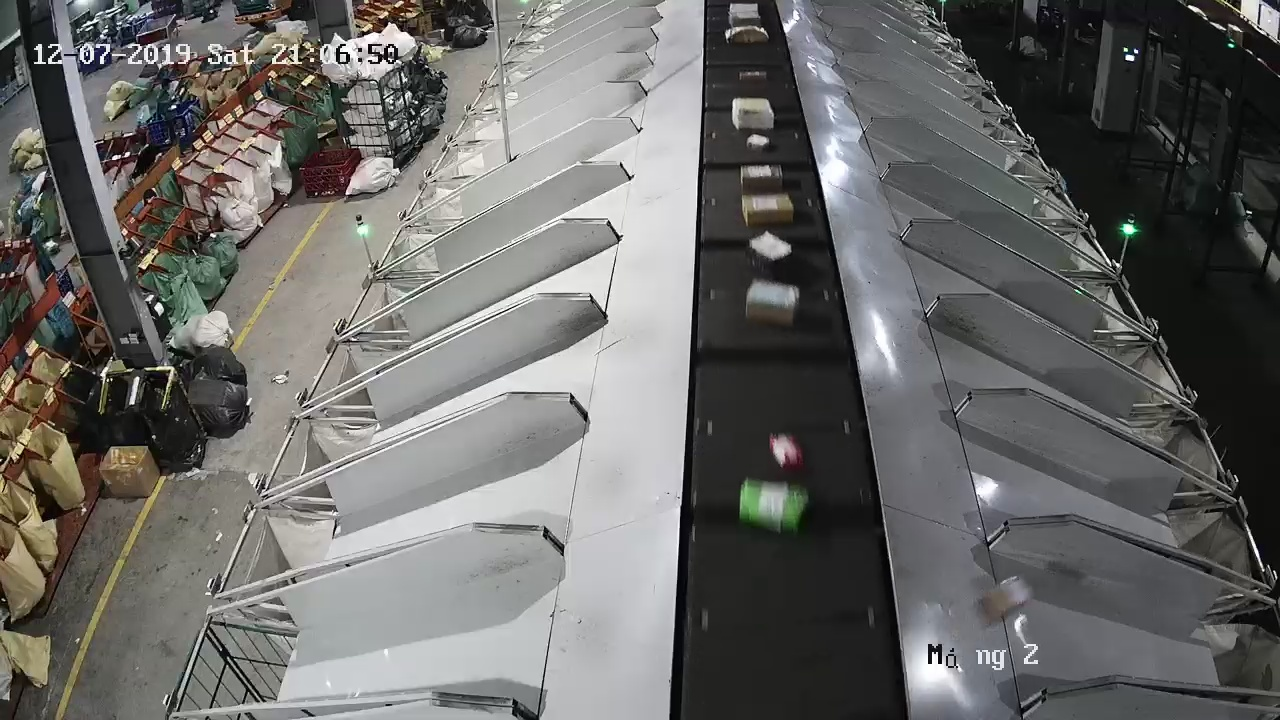parcel: (980, 574, 1030, 622)
